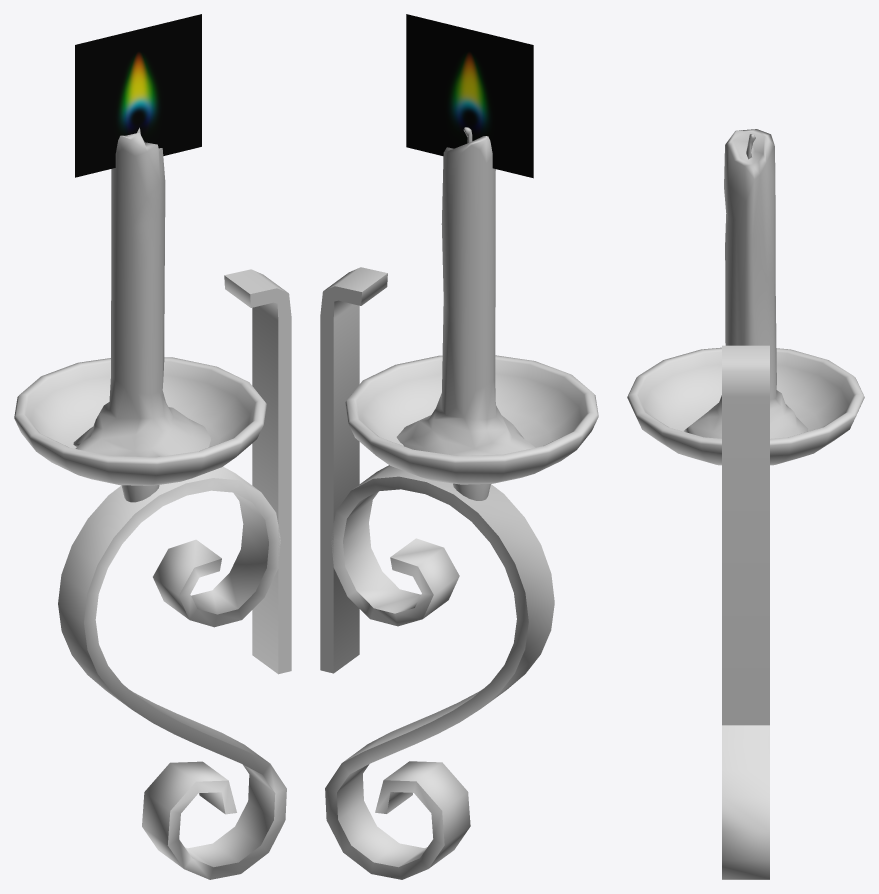
The model's file is CandleWallMount_01.fbx.
3 views of the same model, side by side, from view 1: azimuth 30°, elevation 25°; view 2: azimuth 150°, elevation 25°; view 3: azimuth 270°, elevation 25° (orthographic). The views are drawn at different scales.
Parts seen in each view (by area): view 1: CandleWallMount_01_low, Candle_Tall.001, Candle_Flame.003; view 2: CandleWallMount_01_low, Candle_Tall.001, Candle_Flame.003; view 3: CandleWallMount_01_low, Candle_Tall.001.
Boxes of the visible parts, bbox=[...] form: CandleWallMount_01_low: bbox=[14, 269, 291, 879]; Candle_Tall.001: bbox=[73, 127, 210, 457]; Candle_Flame.003: bbox=[75, 14, 201, 177]; CandleWallMount_01_low: bbox=[320, 267, 598, 879]; Candle_Tall.001: bbox=[396, 127, 535, 455]; Candle_Flame.003: bbox=[406, 14, 533, 178]; CandleWallMount_01_low: bbox=[627, 345, 864, 879]; Candle_Tall.001: bbox=[683, 129, 807, 438].
Bounding box in the file's own units: 58.8 × 193 × 52.21.
